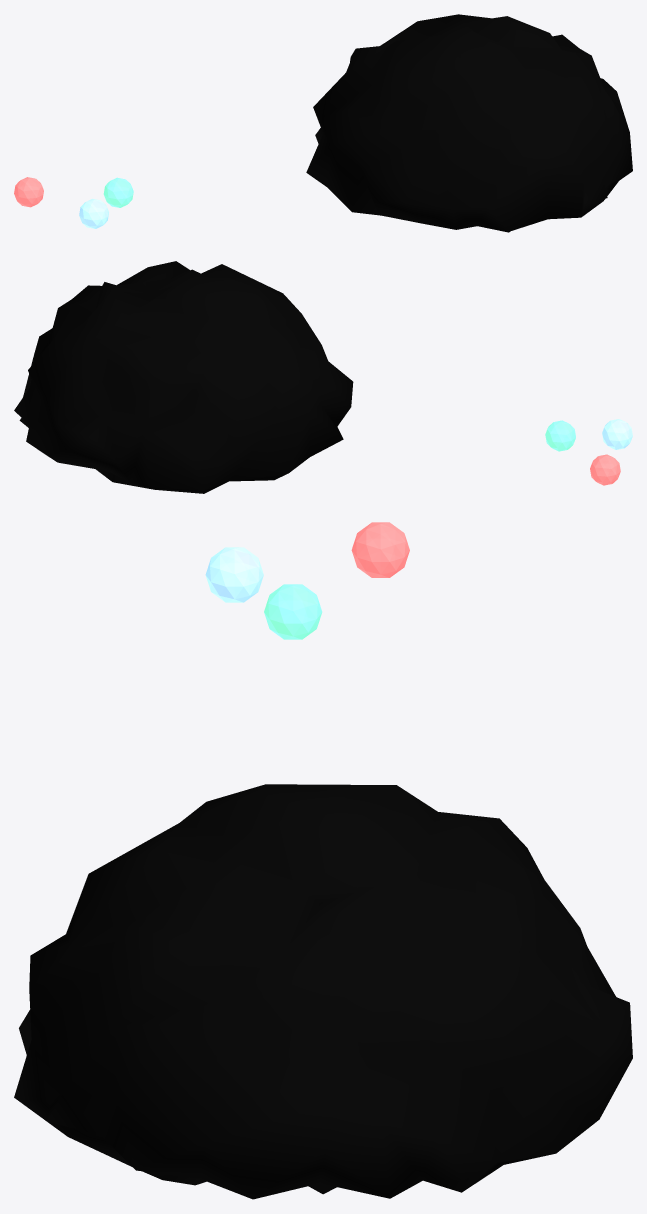
File: treasure_pile_r5.glb
3 views of the same model, one above another, from view 1: azimuth 30°, elevation 25°; view 2: azimuth 150°, elevation 25°; view 3: azimuth 270°, elevation 25° (orthographic). The views are drawn at different scales.
Visible parts, largest first — view 1: treasure_pile_lp, treasure_gem_1, treasure_gem_0, treasure_gem_2; view 2: treasure_pile_lp, treasure_gem_0, treasure_gem_1, treasure_gem_2; view 3: treasure_pile_lp, treasure_gem_1, treasure_gem_2, treasure_gem_0.
Boxes of the visible parts, <box> form: treasure_pile_lp: <box>306,14,632,232</box>; treasure_gem_1: <box>103,177,133,207</box>; treasure_gem_0: <box>14,177,43,207</box>; treasure_gem_2: <box>79,198,108,228</box>; treasure_pile_lp: <box>14,261,353,493</box>; treasure_gem_0: <box>590,454,620,485</box>; treasure_gem_1: <box>545,420,575,451</box>; treasure_gem_2: <box>602,419,632,449</box>; treasure_pile_lp: <box>14,784,632,1199</box>; treasure_gem_1: <box>264,584,322,639</box>; treasure_gem_2: <box>205,547,263,602</box>; treasure_gem_0: <box>351,522,409,577</box>.
Size of the model in its own units: 2.19 by 0.5743 by 1.06.
4 materials, 1 textured.
